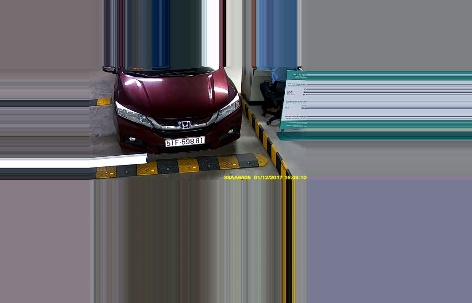plate: (163, 135, 205, 147)
